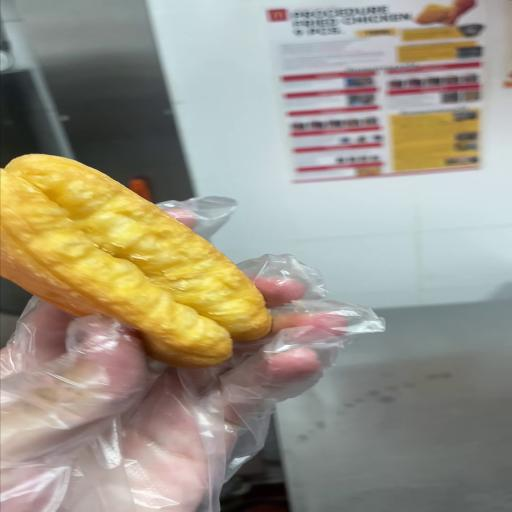brand_golden_good: (0, 155, 271, 367)
